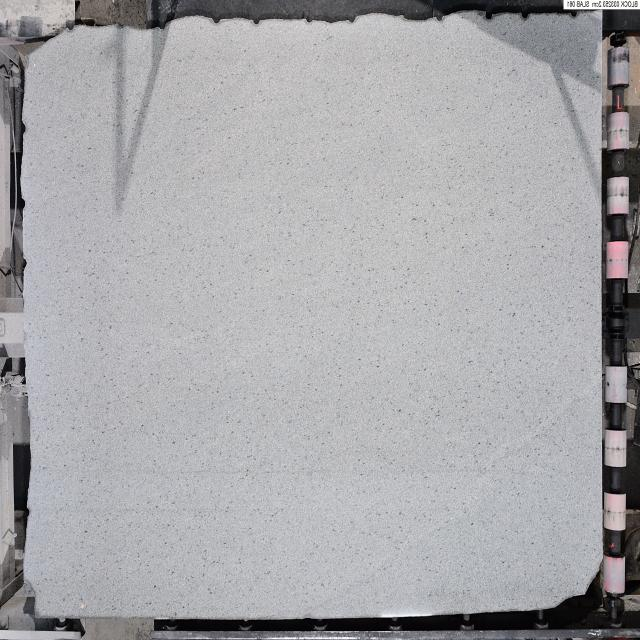chapa: (22, 13, 601, 620)
